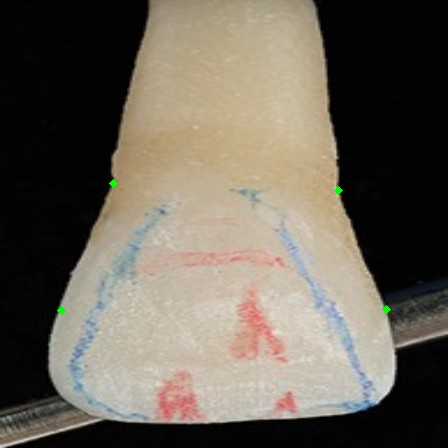coin_1: (113, 183, 133, 203)
coin_2: (61, 310, 81, 330)
coin_3: (338, 190, 358, 210)
coin_4: (386, 309, 406, 329)
